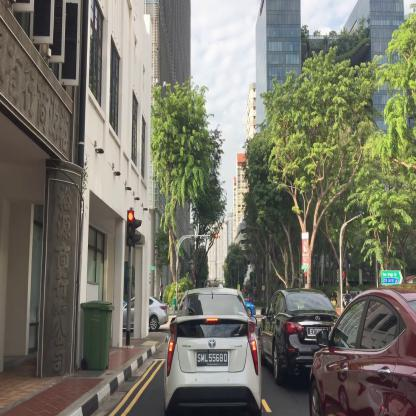red_traffic_light: (127, 210, 133, 246), (210, 234, 218, 238)
